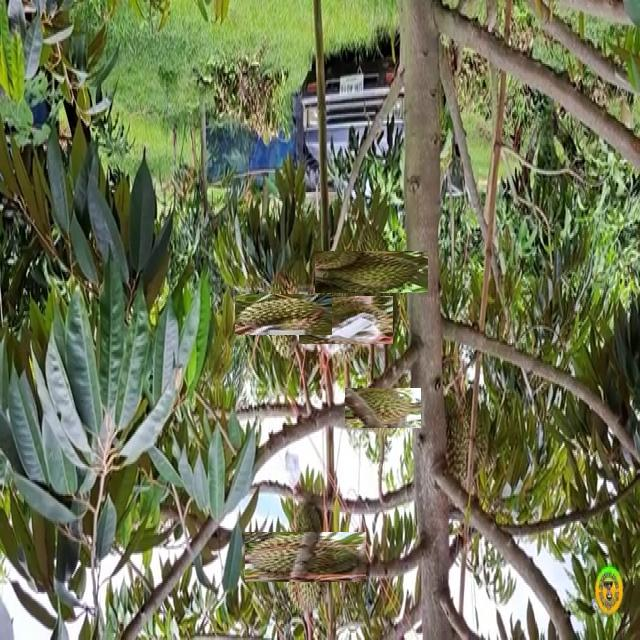durian: (263, 514, 349, 600), (333, 233, 411, 311), (310, 284, 381, 356), (249, 279, 318, 349), (353, 379, 412, 437)
